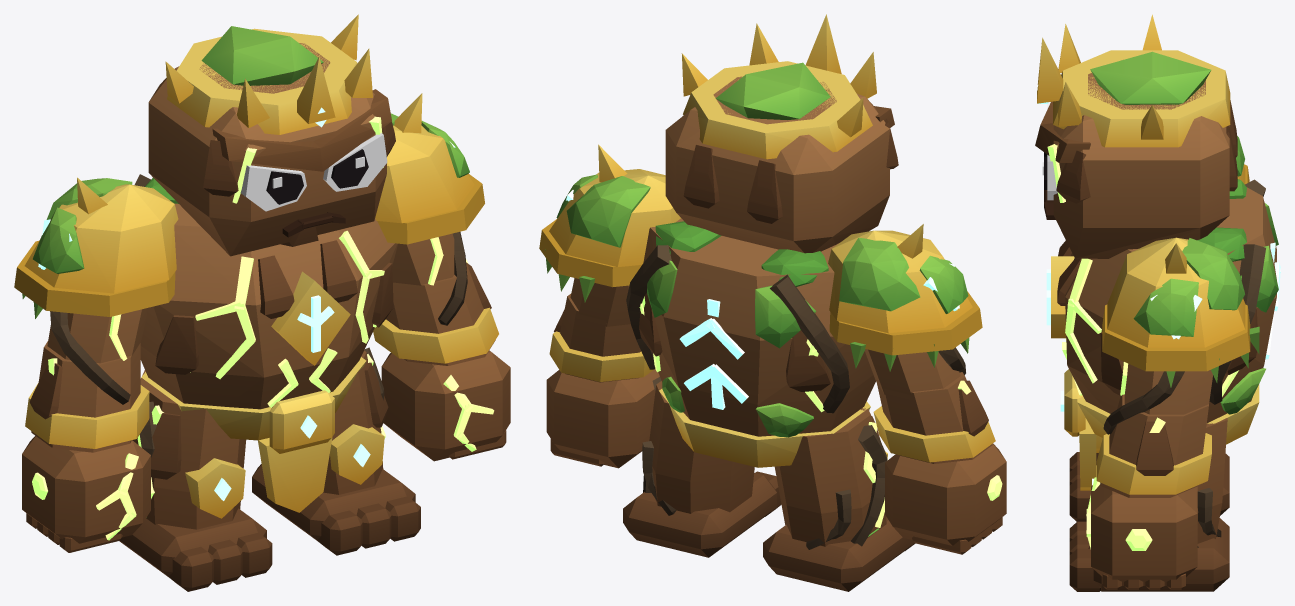
File: MudGolem.glb
The picture shows the model from 3 angles, left to right: view 1: azimuth 30°, elevation 25°; view 2: azimuth 150°, elevation 25°; view 3: azimuth 270°, elevation 25°; orthographic projection. The views are drawn at different scales.
Parts seen in each view (by area): view 1: MudGolem; view 2: MudGolem; view 3: MudGolem.
Boxes of the visible parts, left/top/right/bottom form: MudGolem: left=14, top=14, right=510, bottom=591; MudGolem: left=539, top=14, right=1006, bottom=591; MudGolem: left=1035, top=14, right=1280, bottom=591.
Size of the model in its own units: 0.97 by 1.04 by 0.4612.
1 material, 1 textured.
